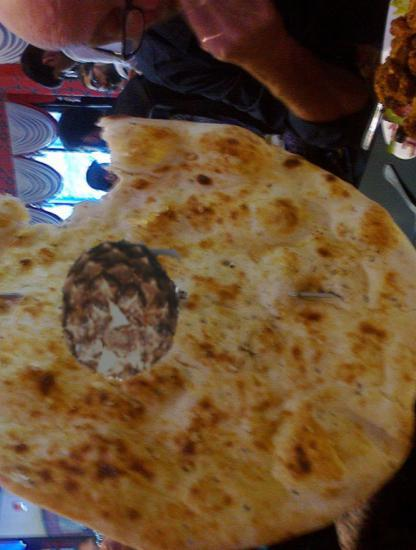Pineapple: (46, 237, 190, 381)
